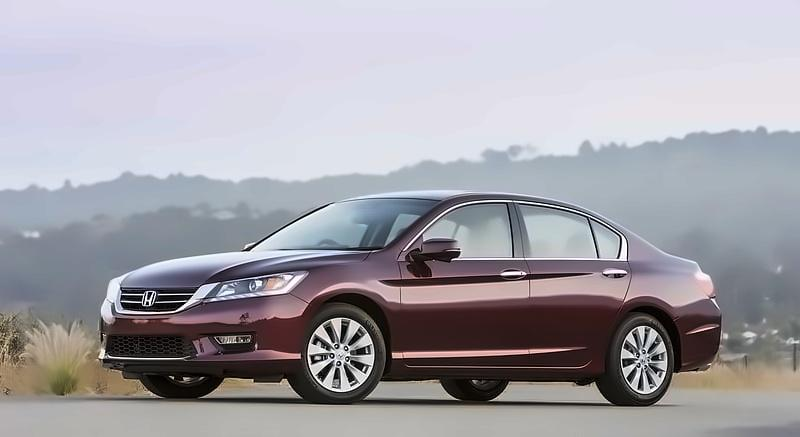Car hood: (116, 245, 373, 293)
Fender - -F-L-: (293, 245, 404, 379)
Fender - -R-L-: (604, 235, 698, 376)
Front bumper: (88, 300, 315, 385)
Headlight - -L-: (186, 263, 318, 308)
Headlight - -R-: (96, 266, 132, 313)
Passenger-s door - -F-L-: (399, 197, 530, 371)
Passenger-s door - -R-L-: (526, 195, 638, 371)
Rear bumper: (671, 296, 729, 380)
Rear light - -L-: (690, 261, 723, 308)
Side bumper - -L-: (383, 354, 604, 388)
Side mirror - -L-: (410, 229, 465, 267)
Side mirror - -R-: (234, 235, 265, 255)
